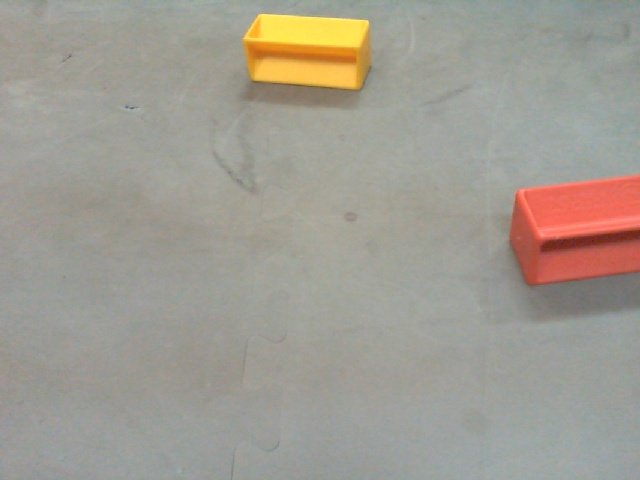RedSample: (505, 169, 640, 288)
YellowSample: (239, 14, 371, 90)
